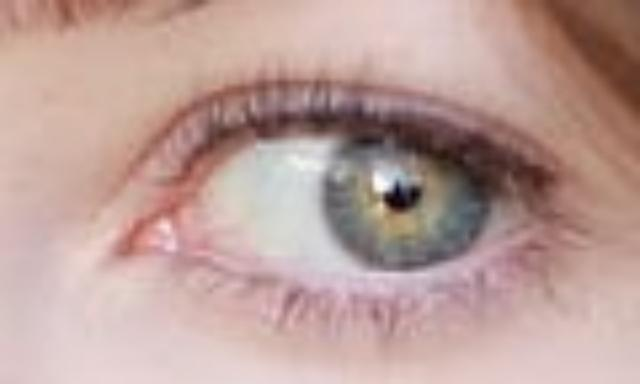eye: (318, 116, 496, 274)
